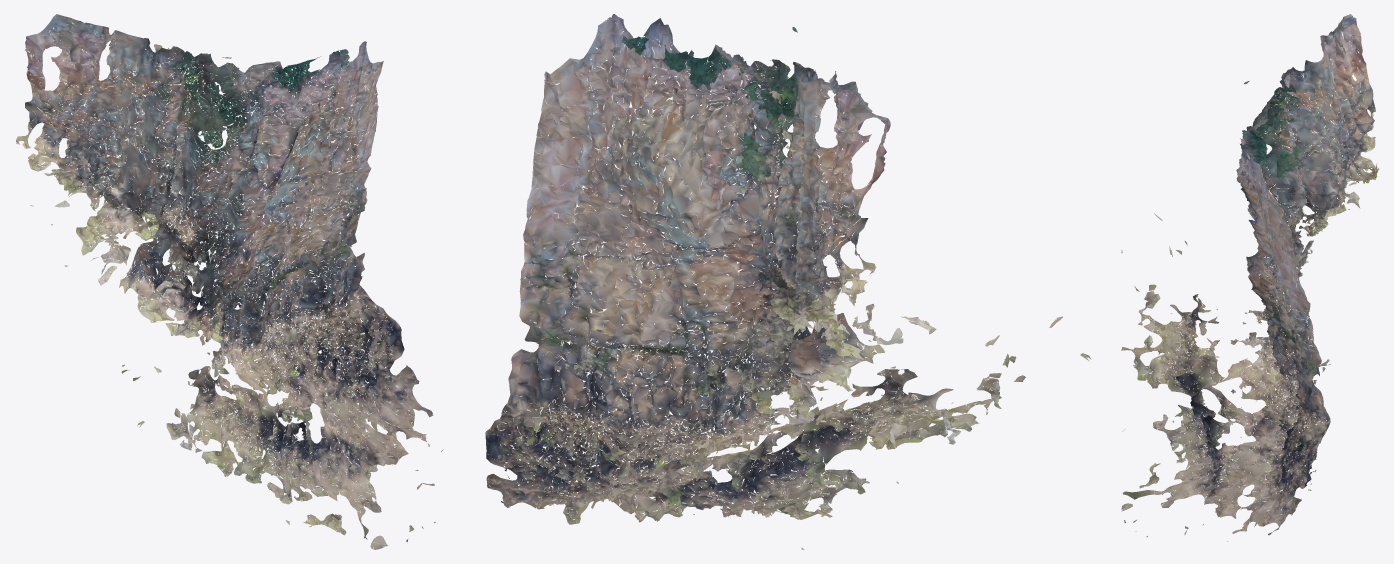
File: morro-do-macaco.glb
The picture shows the model from 3 angles, left to right: view 1: azimuth 30°, elevation 25°; view 2: azimuth 150°, elevation 25°; view 3: azimuth 270°, elevation 25°; orthographic projection. The views are drawn at different scales.
Visible parts, largest first — view 1: geometry_0; view 2: geometry_0; view 3: geometry_0.
Boxes of the visible parts, x1,y1,x2,y2 form: geometry_0: (16, 14, 443, 549); geometry_0: (485, 14, 1091, 549); geometry_0: (1121, 14, 1378, 541).
Bounding box in the file's own units: 15.02 × 18.31 × 10.25.
